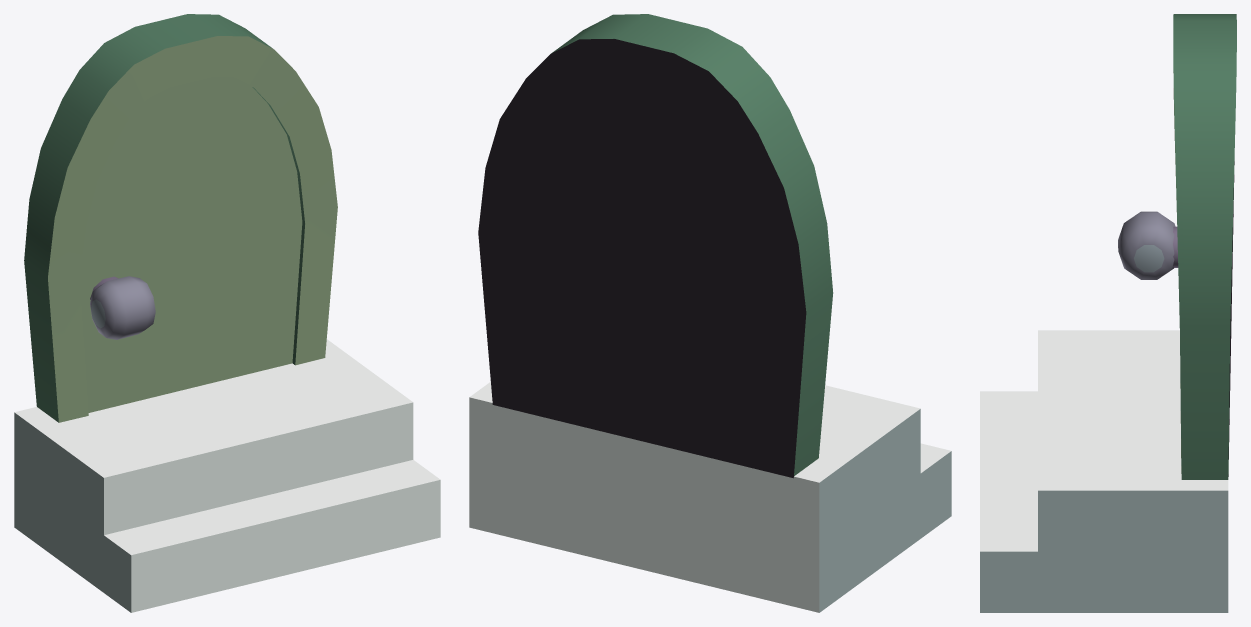
Rendered from Door03_Green_White.glb.
The picture shows the model from 3 angles, left to right: view 1: azimuth 30°, elevation 25°; view 2: azimuth 150°, elevation 25°; view 3: azimuth 270°, elevation 25°; orthographic projection. The views are drawn at different scales.
Parts seen in each view (by area): view 1: Door03_Green_White; view 2: Door03_Green_White; view 3: Door03_Green_White.
Boxes of the visible parts, x1,y1,x2,y2 form: Door03_Green_White: (14,14,440,612); Door03_Green_White: (469,14,951,612); Door03_Green_White: (980,14,1236,612).
Size of the model in its own units: 0.9795 by 1.41 by 0.6625.
1 material, 1 textured.
